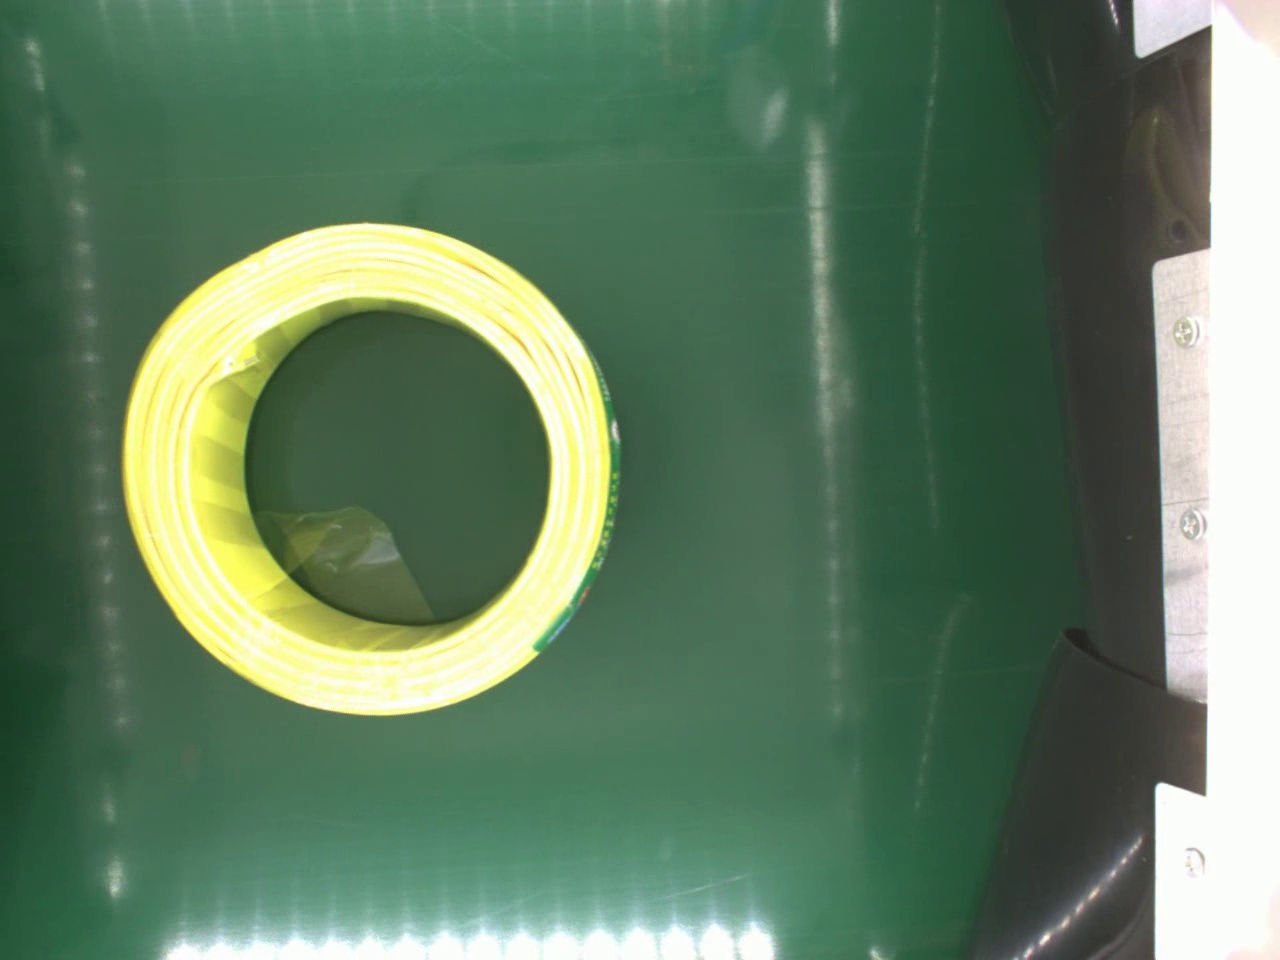yellow: (117, 217, 630, 721)
